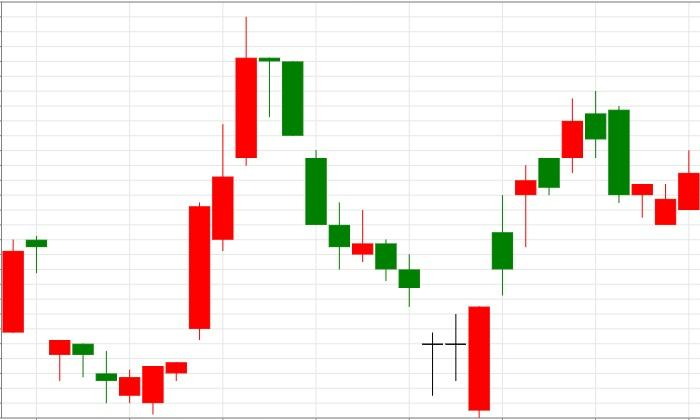evening_star_fall: (119, 16, 304, 415)
